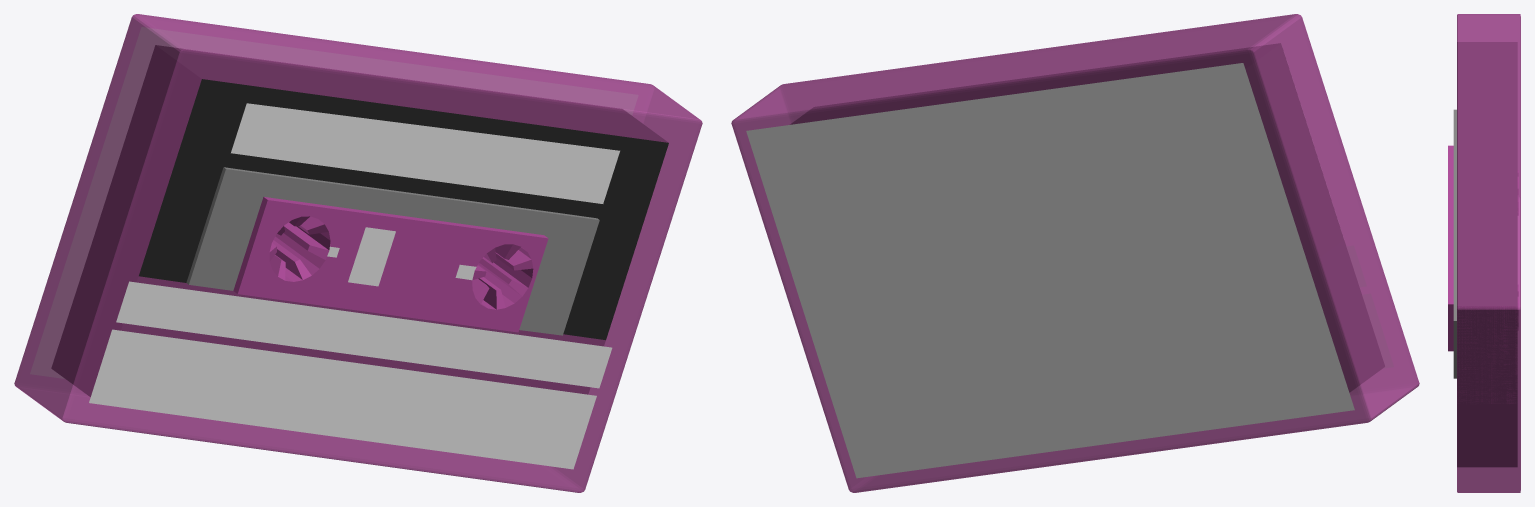
File: Cassette_Pink.fbx
The picture shows the model from 3 angles, left to right: view 1: azimuth 30°, elevation 25°; view 2: azimuth 150°, elevation 25°; view 3: azimuth 270°, elevation 25°; orthographic projection. The views are drawn at different scales.
Visible parts, largest first — view 1: Cube; view 2: Cube; view 3: Cube.
Boxes of the visible parts, x1=… form: Cube: x1=14, y1=14, x2=702, y2=492; Cube: x1=731, y1=14, x2=1419, y2=492; Cube: x1=1448, y1=14, x2=1520, y2=492.
Size of the model in its own units: 184 by 148 by 27.78.
